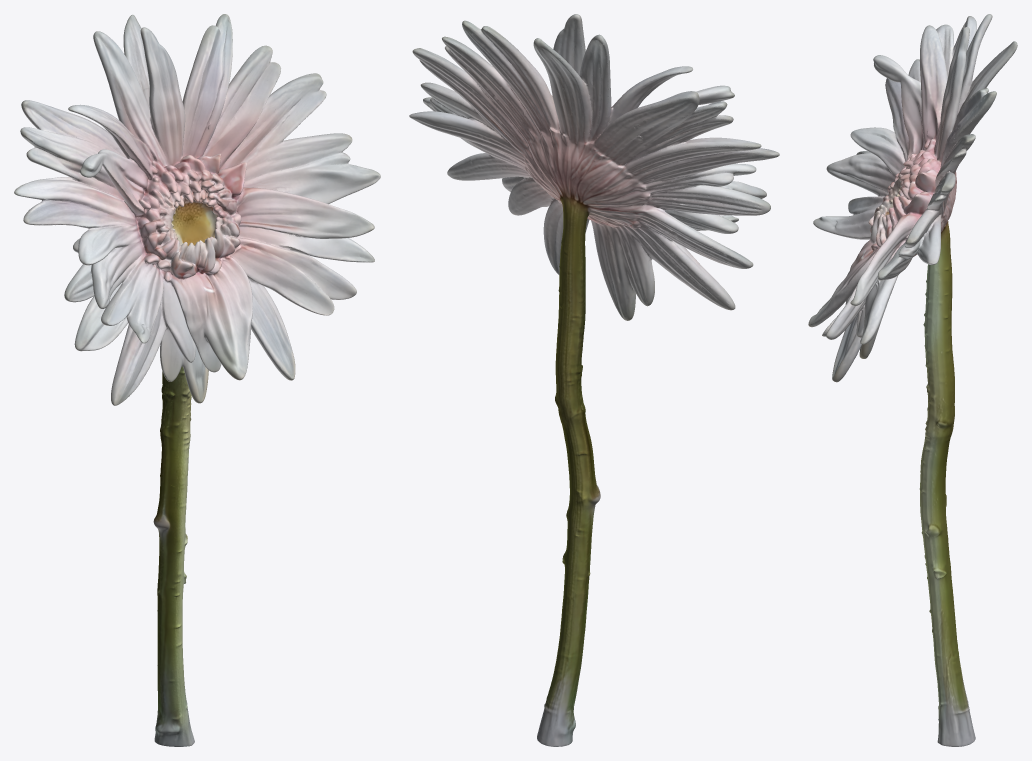
File: Gerbera-v1.glb
3 renders of one model, left to right at view 1: azimuth 30°, elevation 25°; view 2: azimuth 150°, elevation 25°; view 3: azimuth 270°, elevation 25°, orthographic. The views are drawn at different scales.
Parts seen in each view (by area): view 1: model; view 2: model; view 3: model.
Part boxes in pixels (x1=…): model: x1=14, y1=14, x2=380, y2=746; model: x1=409, y1=14, x2=779, y2=746; model: x1=808, y1=14, x2=1017, y2=746.
Size of the model in its own units: 0.9757 by 1.9 by 0.5135.
Materials: 1 (1 with a texture image).
